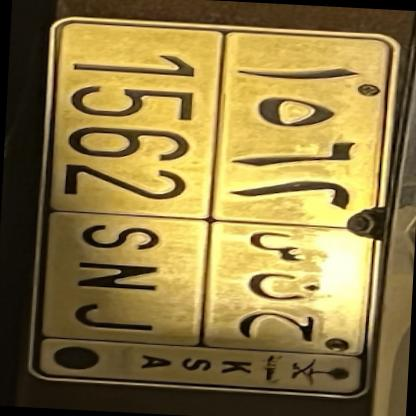english: (34, 4, 245, 351)
